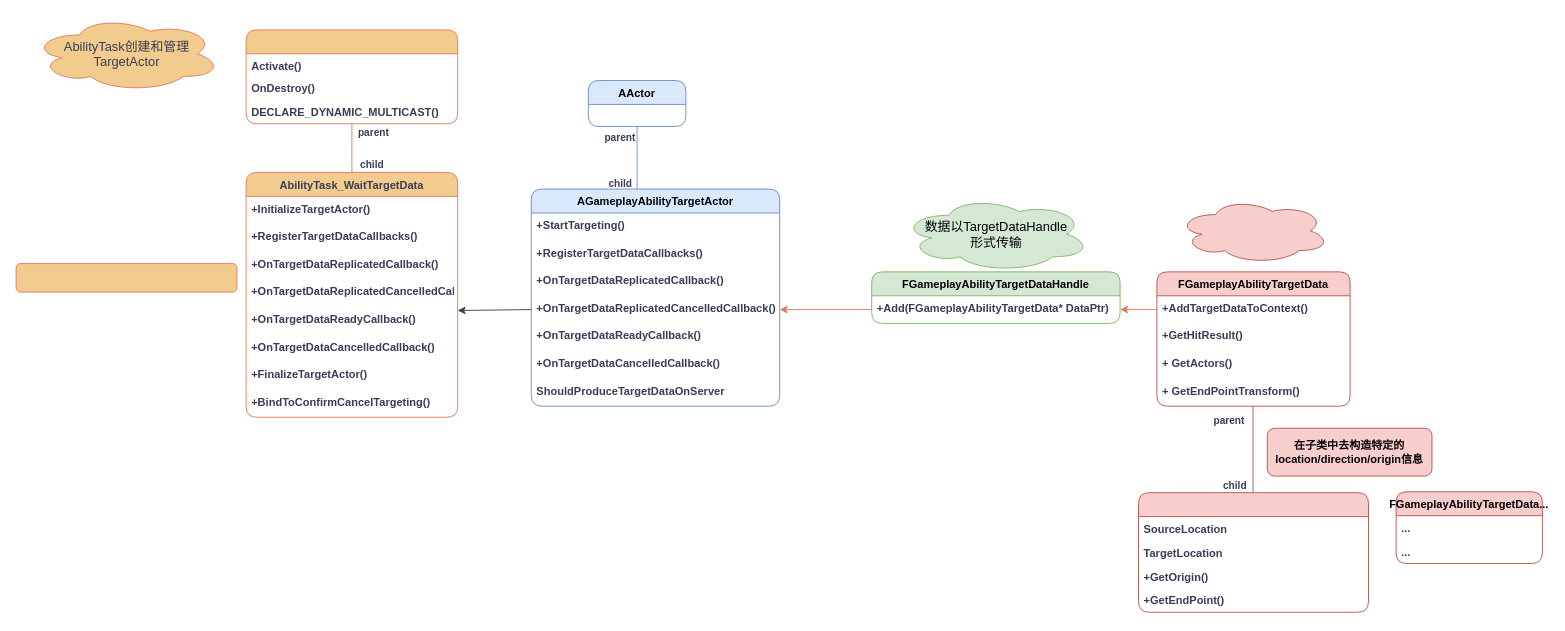
Some shapes in this 1565 by 631 pixel diagram are drawn without their labels. The box of each missing label's shape, as (x1, y1, x2, y2) in pixels:
FGameplayAbilityTargetData_LocationInfo: (1138, 492, 1368, 612)
LocallyClient/ Server 通过ASC的AbilityTargetDataMap同步回调: (15, 263, 237, 292)
UAbilityTask: (245, 29, 458, 124)
数据以TargetData 形式存储: (1177, 197, 1329, 264)
